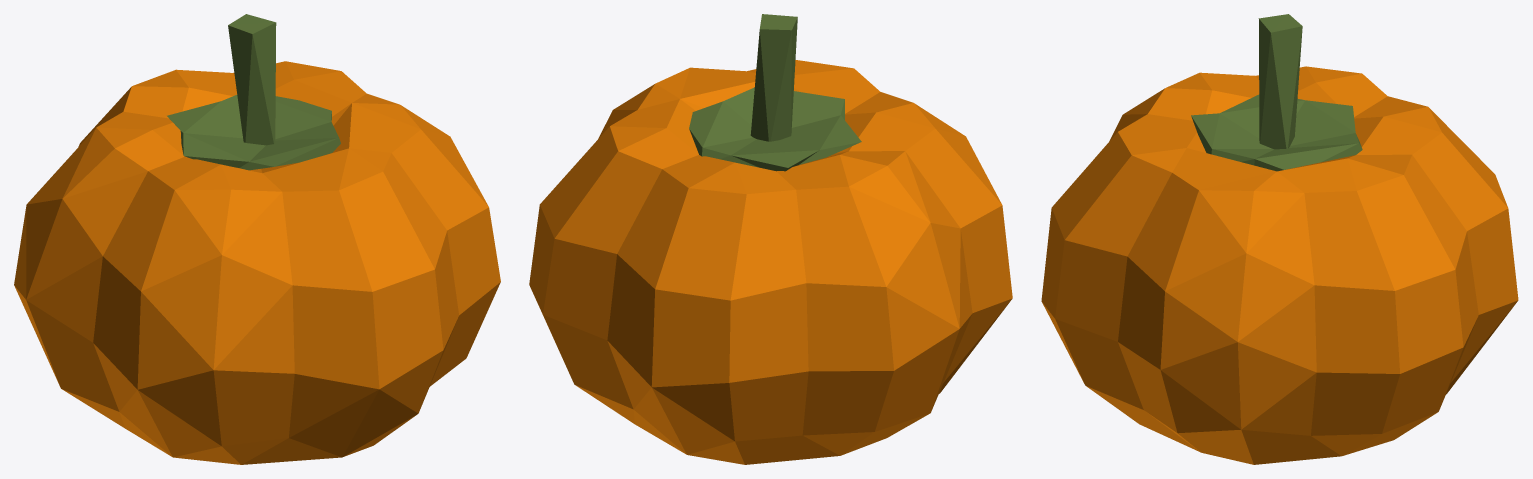
File: Pumpkin.fbx
The picture shows the model from 3 angles, left to right: view 1: azimuth 30°, elevation 25°; view 2: azimuth 150°, elevation 25°; view 3: azimuth 270°, elevation 25°; orthographic projection.
Visible parts, largest first — view 1: Pumpkin; view 2: Pumpkin; view 3: Pumpkin.
Boxes of the visible parts, box(x1,y1,x2,y2) form: Pumpkin: box(14, 14, 500, 464); Pumpkin: box(529, 14, 1012, 464); Pumpkin: box(1041, 14, 1518, 464).
Size of the model in its own units: 0.4213 by 0.3811 by 0.4233.
